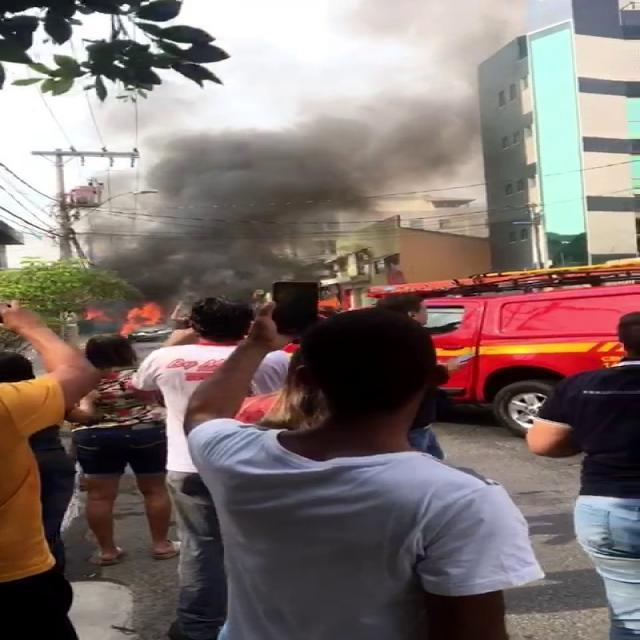Smoke: (72, 39, 536, 298)
